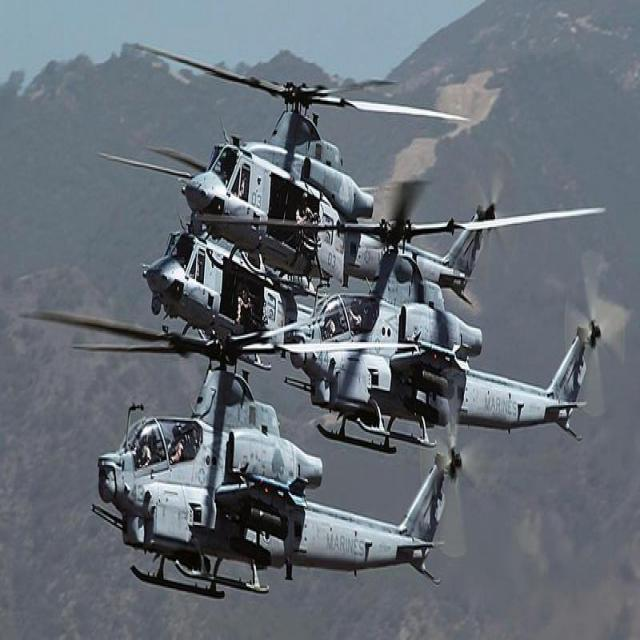MIL_HELO: (33, 283, 480, 617), (130, 26, 610, 292), (264, 202, 618, 447), (104, 155, 334, 361)
